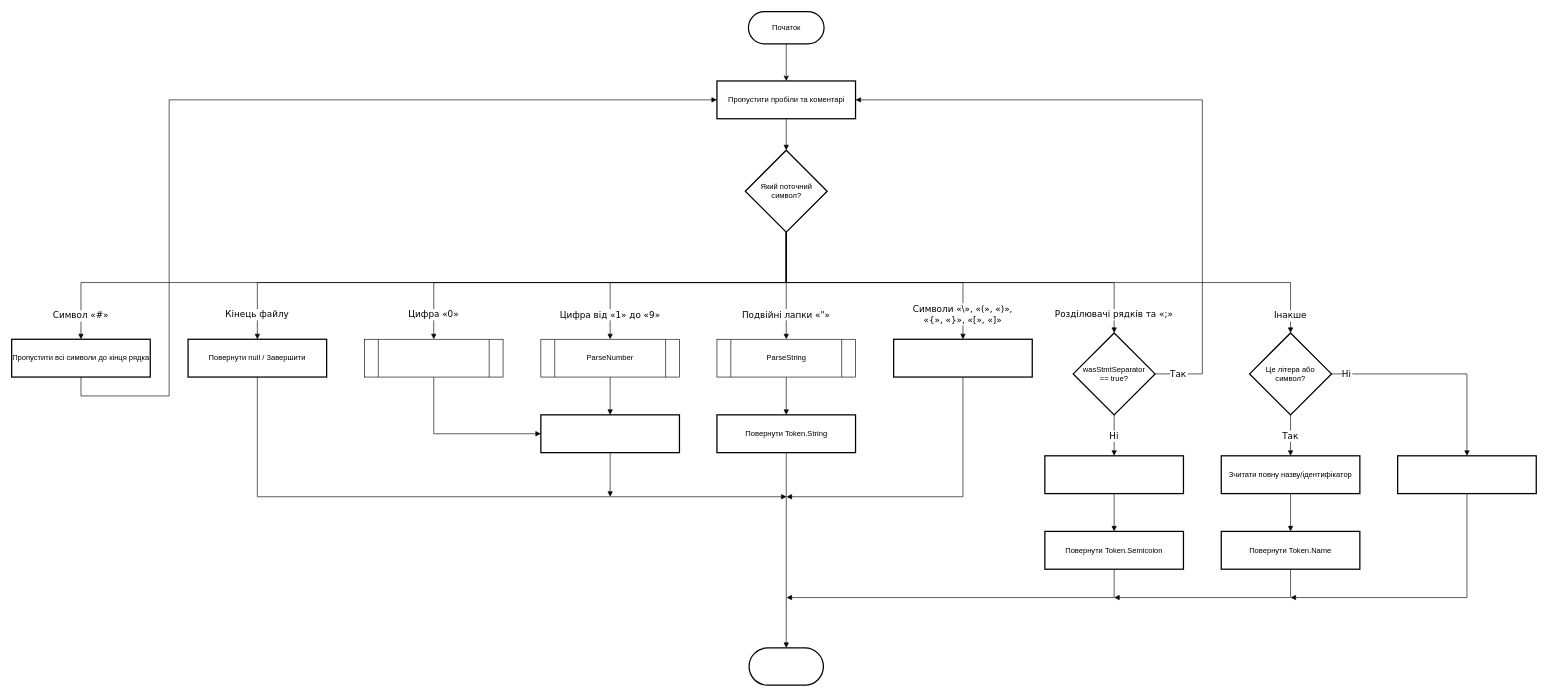
The diagram is 1547 pixels wide and 696 high, and some of its shapes have lost their labels. Each missing label, with the box of its shape:
ParseNumberFromZero: (364, 339, 503, 377)
Встановити wasStmtSeparator = true: (1044, 455, 1184, 494)
Кинути виключення: Неочікуваний символ: (1397, 455, 1537, 494)
Кінець: (748, 647, 824, 685)
Повернути Token.Int або Token.Float: (540, 414, 680, 453)
Повернути Token.{відповідна дужка}: (893, 338, 1033, 377)
